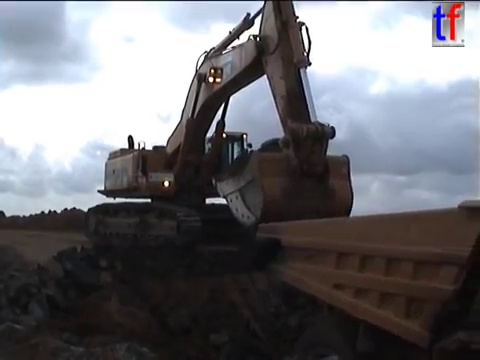excavator: (81, 1, 358, 253)
truck: (252, 197, 480, 360)
